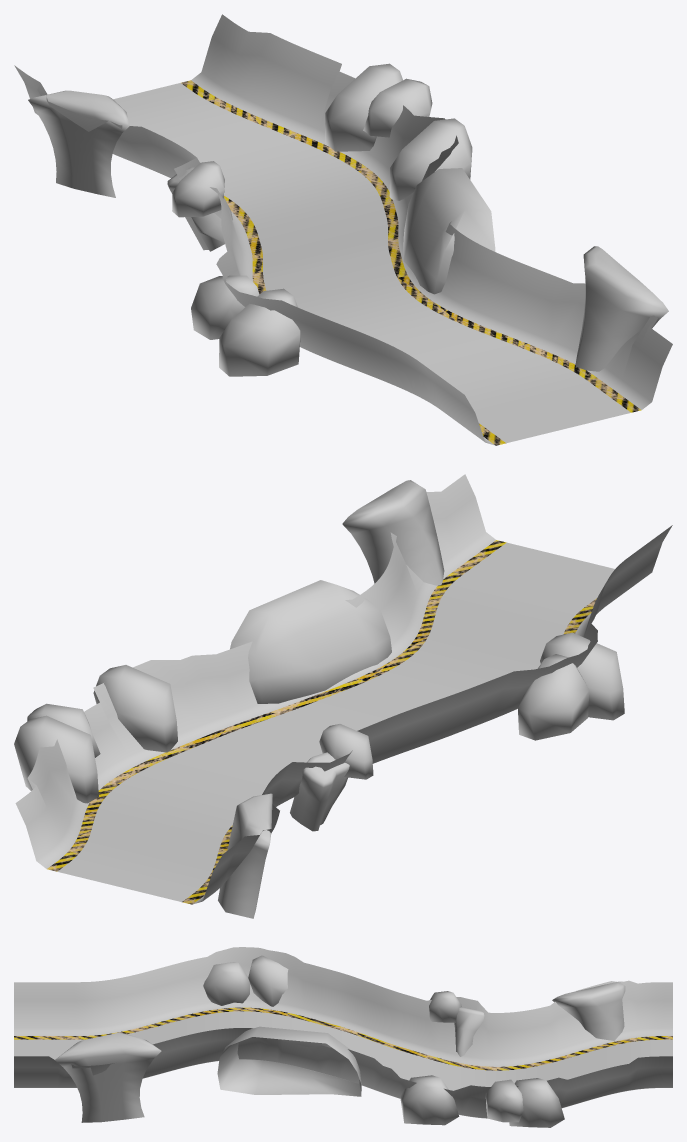
Rendered from shikane_Chunk_old.fbx.
3 renders of one model, top to bottom at view 1: azimuth 30°, elevation 25°; view 2: azimuth 150°, elevation 25°; view 3: azimuth 270°, elevation 25°, orthographic. The views are drawn at different scales.
Visible parts, largest first — view 1: shikane_Chunk; view 2: shikane_Chunk; view 3: shikane_Chunk.
Boxes of the visible parts, left/top/right/bottom form: shikane_Chunk: left=14, top=14, right=672, bottom=445; shikane_Chunk: left=14, top=474, right=672, bottom=918; shikane_Chunk: left=14, top=947, right=672, bottom=1127.
Bounding box in the file's own units: 76.32 × 22.5 × 150.
